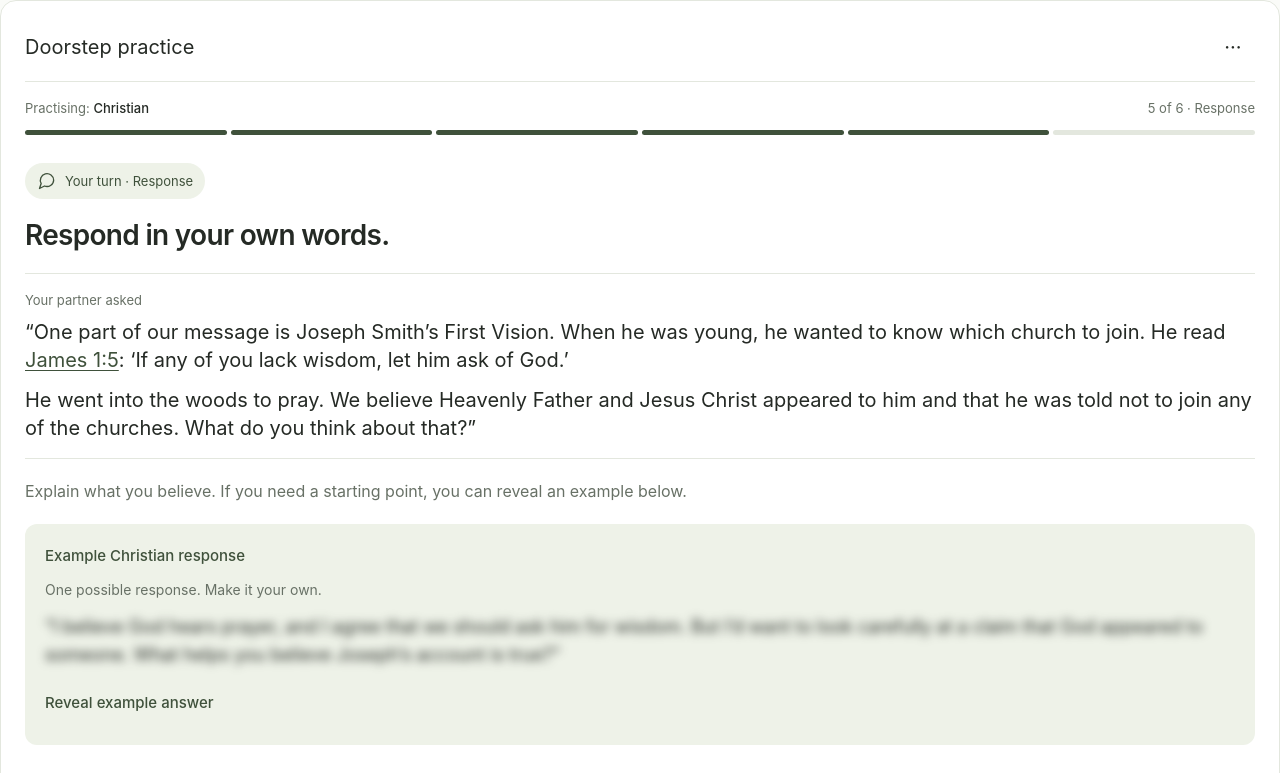
Test: SessionView Week One opening question and follow-ups › shows a concise failure, never another passage, for an unknown reference
Click the button "James 1:5" at (72,360), box [25,346,119,374]
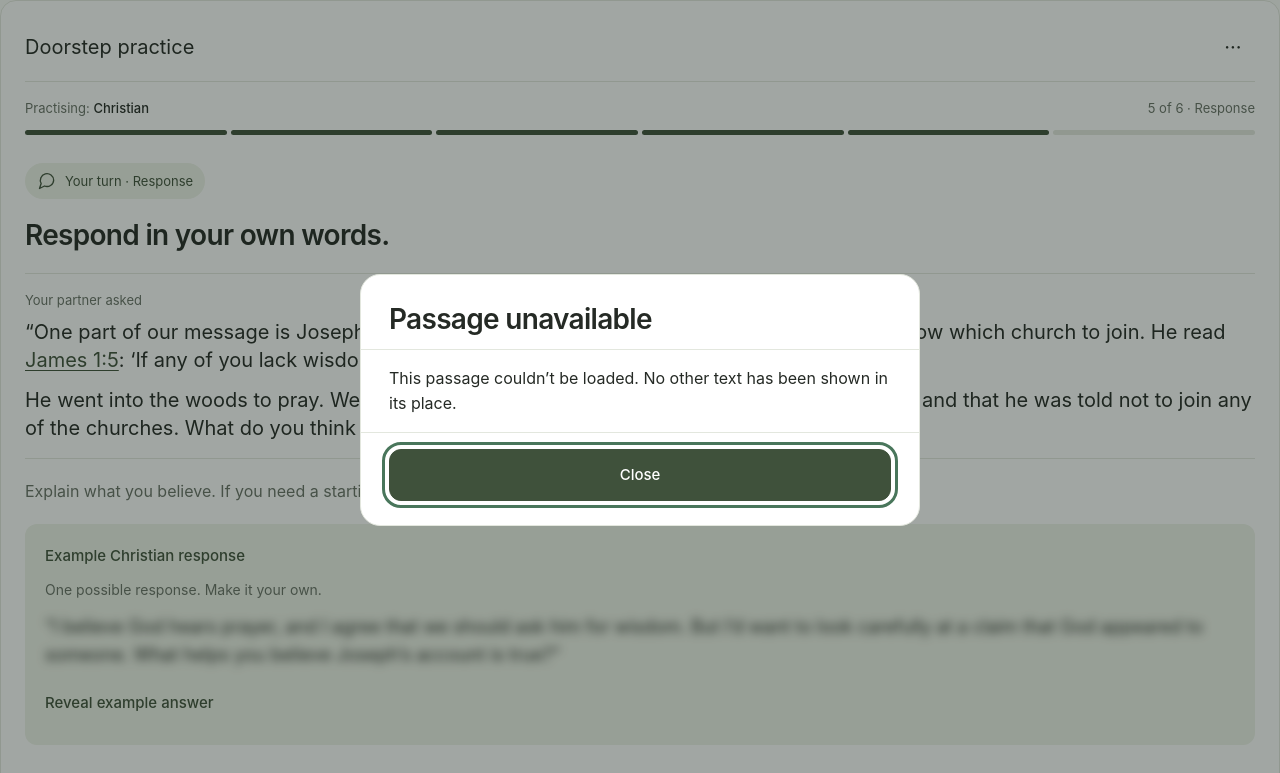
Expected: the dialog "Passage unavailable" does not show "King James Version", [360,274,920,526]
Expected: the dialog "Passage unavailable" shows "This passage couldn’t be loaded.", [389,368,888,413]
Expected: the button "Close" is shown, [389,449,891,501]
